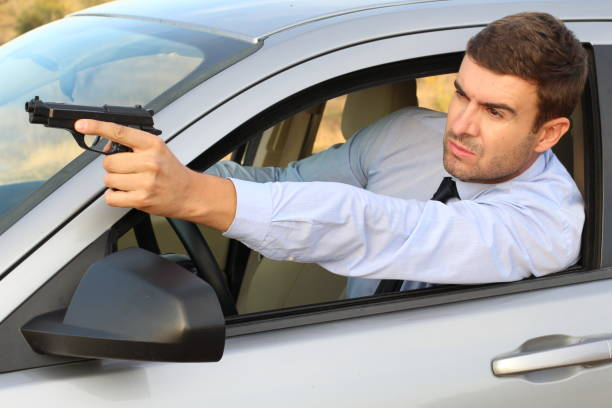gun: (21, 95, 165, 154)
